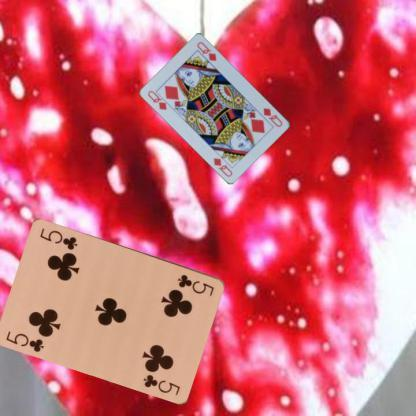5c: (3, 328, 46, 353), (175, 272, 216, 298)
Qd: (144, 88, 173, 112), (260, 105, 284, 128)
